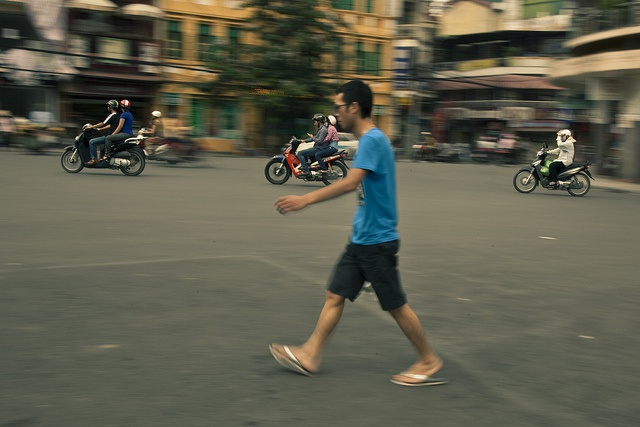non-vehicle: (511, 142, 595, 197), (263, 134, 350, 186), (60, 127, 148, 177)
